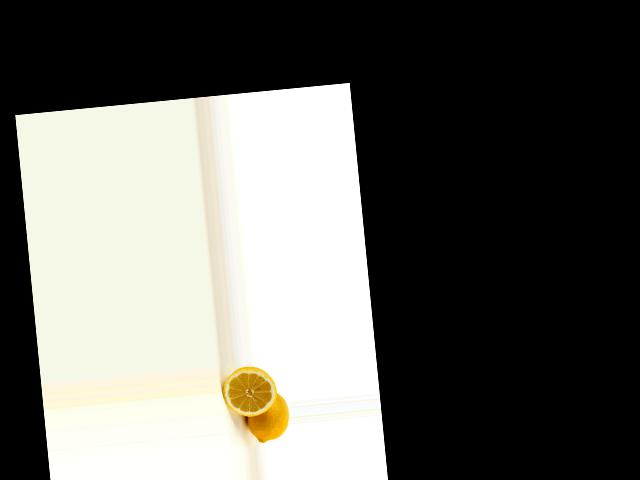lemon: (239, 390, 291, 446)
